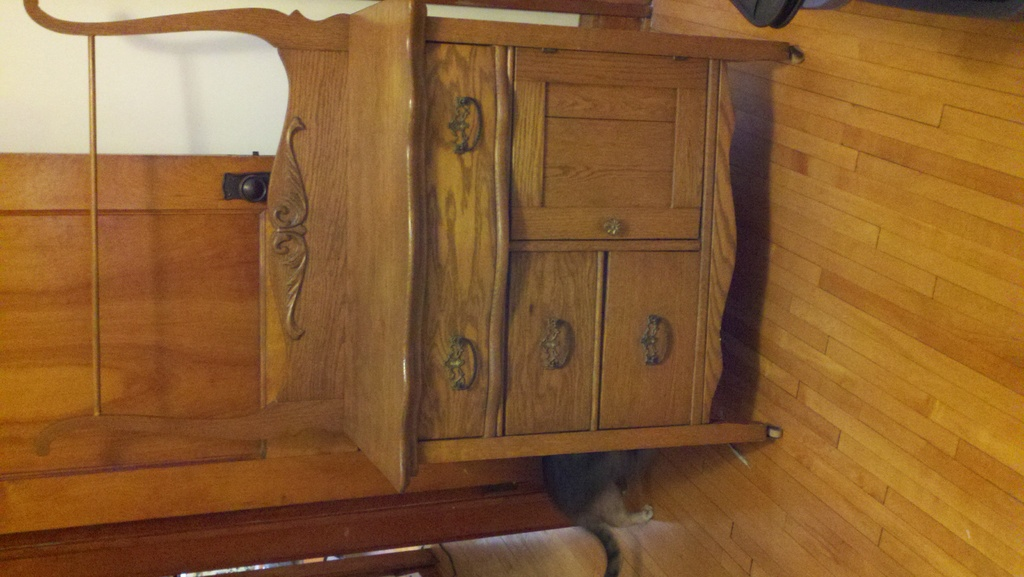cabinet door: (510, 51, 703, 236), (430, 44, 494, 434), (605, 250, 696, 419), (510, 249, 594, 424)
door: (7, 159, 302, 509)
handle: (542, 313, 579, 374), (449, 334, 482, 390), (637, 312, 670, 368), (458, 94, 486, 153), (236, 172, 270, 209), (596, 216, 626, 238)
